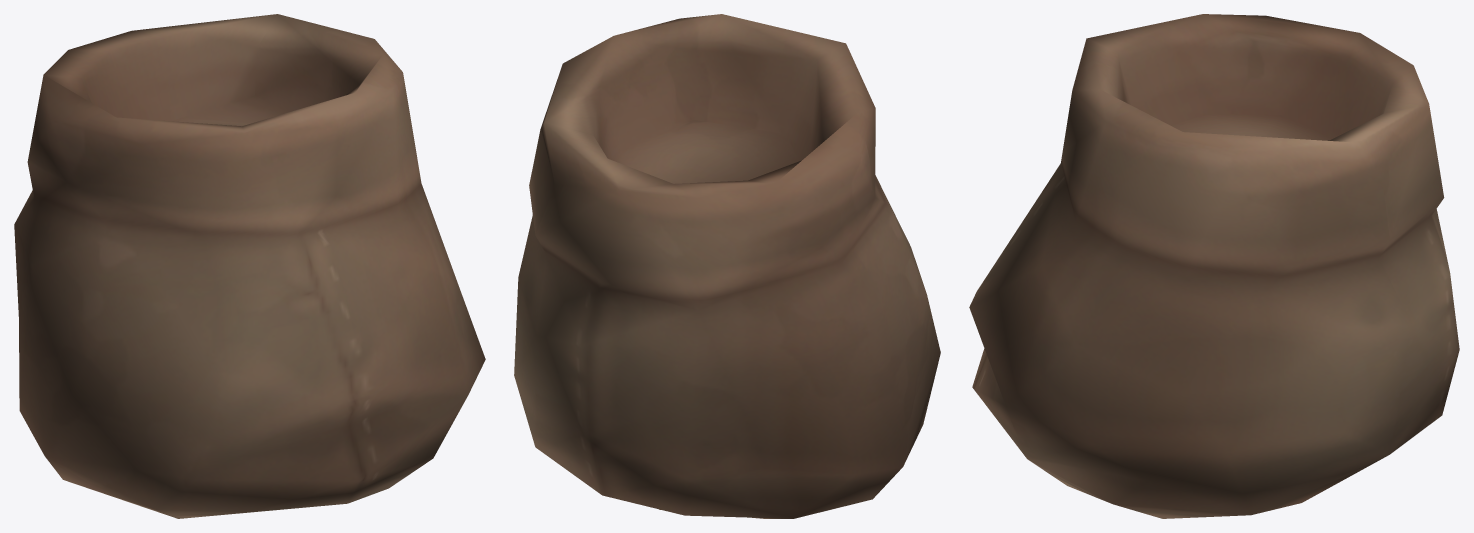
Rendered from O_Bag_C.fbx.
3 views of the same model, side by side, from view 1: azimuth 30°, elevation 25°; view 2: azimuth 150°, elevation 25°; view 3: azimuth 270°, elevation 25° (orthographic).
Visible parts, largest first — view 1: O_Bag_C; view 2: O_Bag_C; view 3: O_Bag_C.
Boxes of the visible parts, bbox=[...] form: O_Bag_C: bbox=[14, 14, 485, 518]; O_Bag_C: bbox=[514, 14, 940, 518]; O_Bag_C: bbox=[969, 14, 1459, 518].
Bounding box in the file's own units: 88.2 × 91.98 × 98.32.
